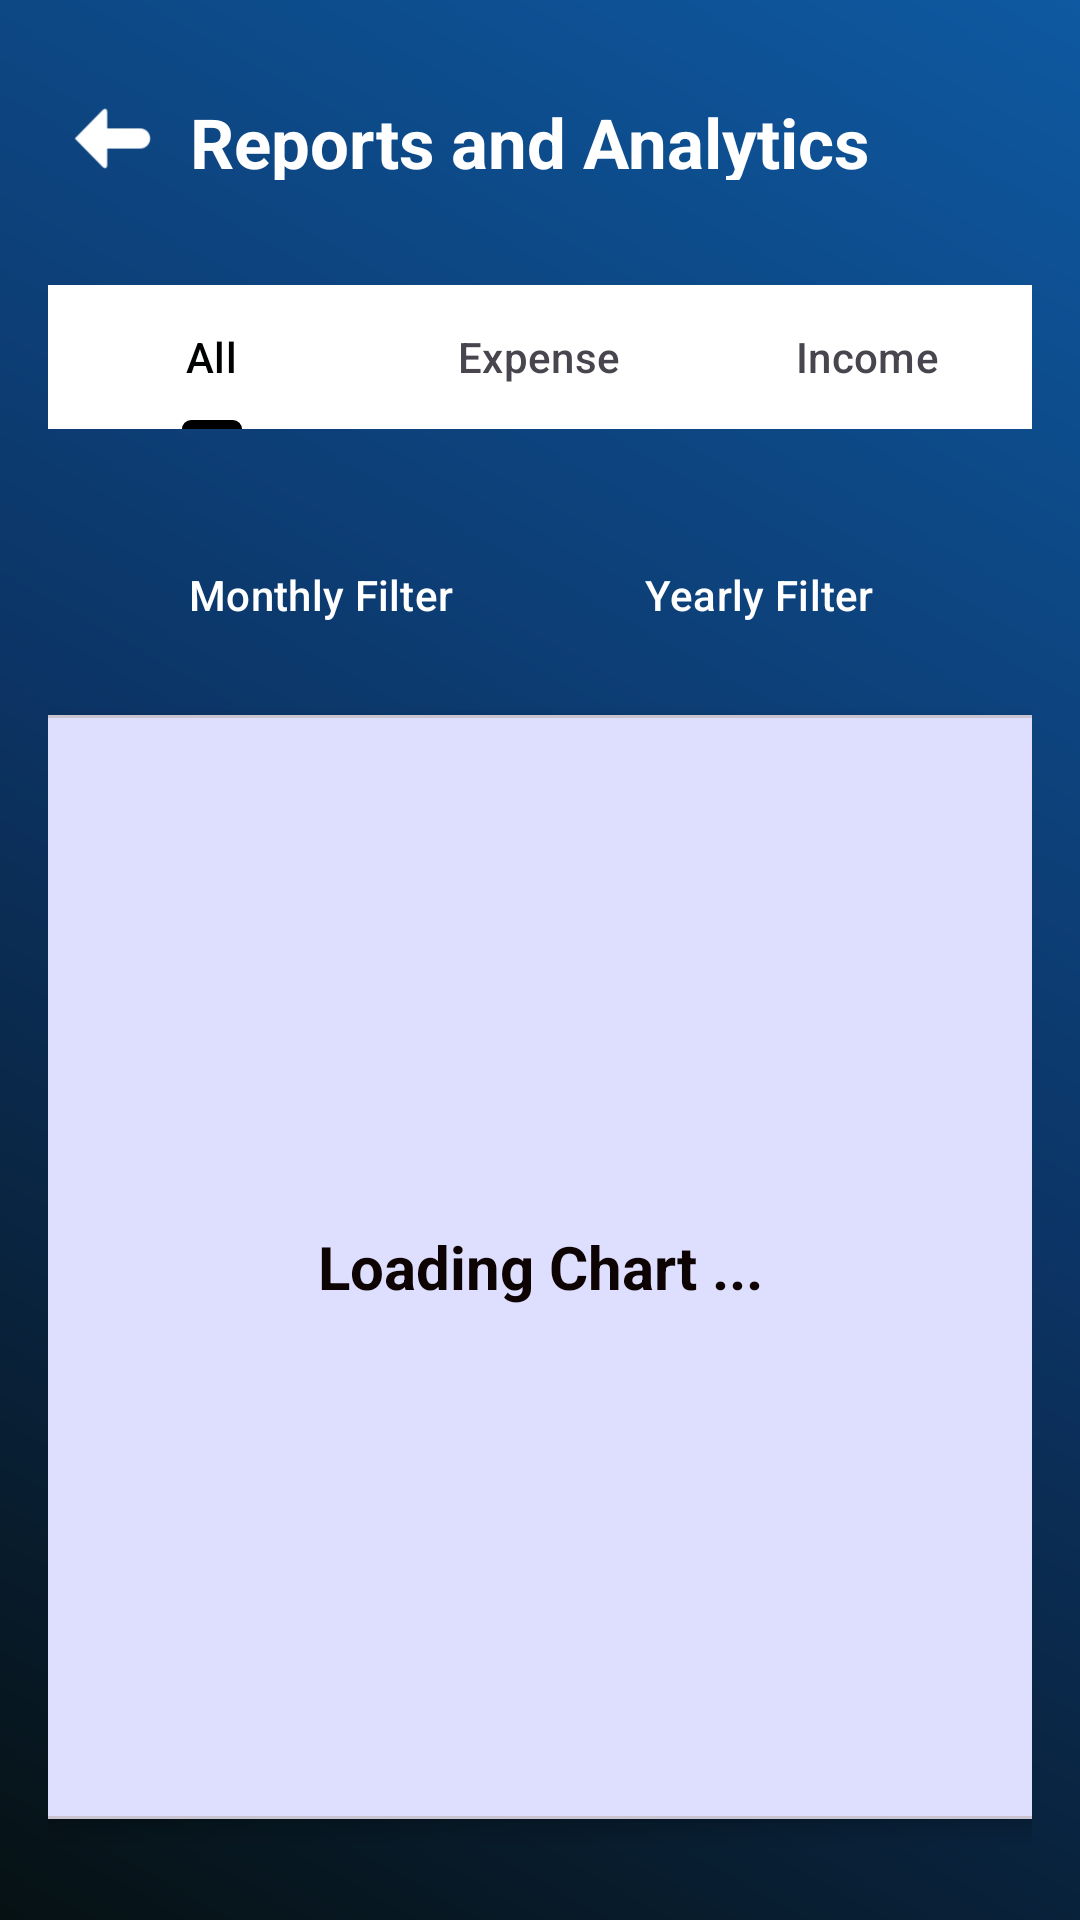

Where to tap for icons on this 1080 x 1920 app screen, as point (x, y):
arrow: point (113, 138)
